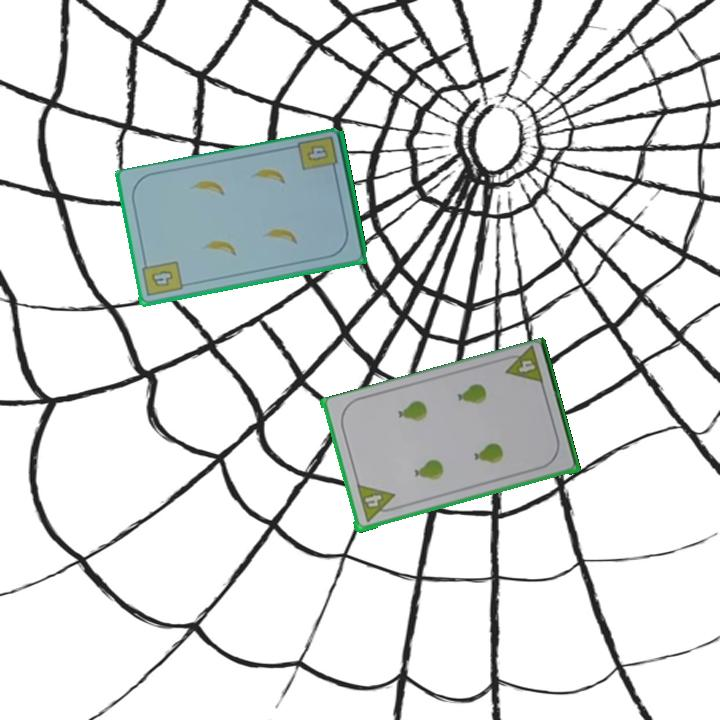4b: (295, 133, 341, 177), (139, 257, 186, 299)
4p: (353, 481, 400, 526), (498, 344, 546, 388)
